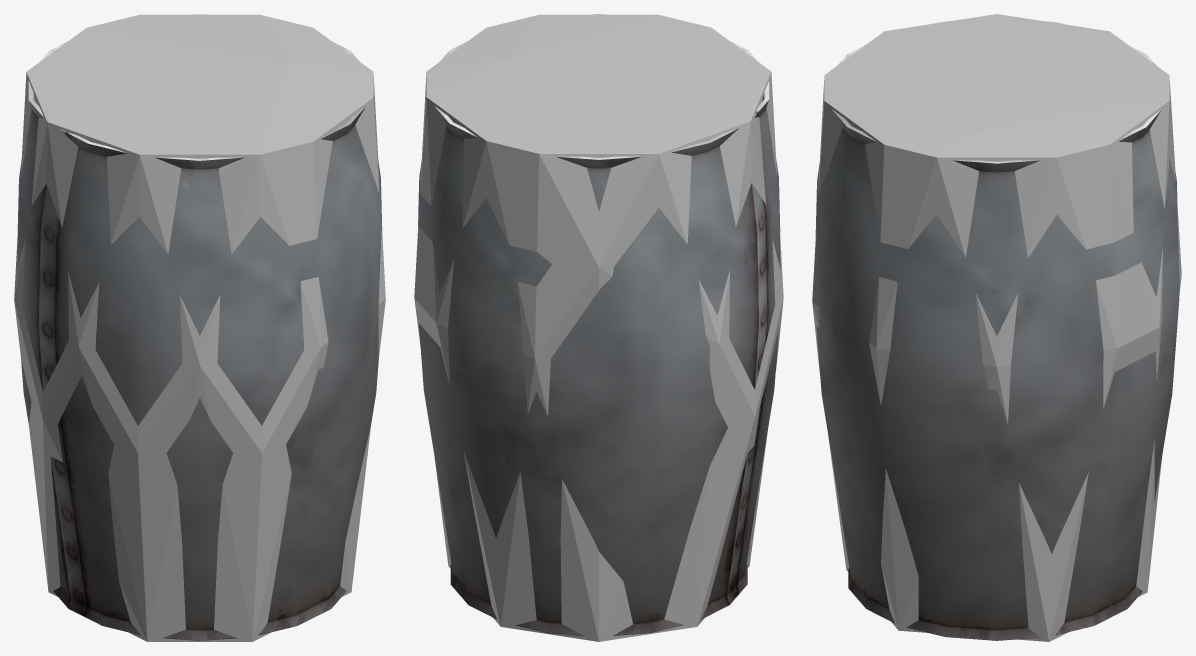
The model's file is SM_BarrelMetallic02.fbx.
3 renders of one model, left to right at view 1: azimuth 30°, elevation 25°; view 2: azimuth 150°, elevation 25°; view 3: azimuth 270°, elevation 25°, orthographic.
Visible parts, largest first — view 1: SM_BarrelMetallic02_ConvexHulls, SM_BarrelMetallic02; view 2: SM_BarrelMetallic02, SM_BarrelMetallic02_ConvexHulls; view 3: SM_BarrelMetallic02, SM_BarrelMetallic02_ConvexHulls.
Part boxes in pixels (bbox=[...]): SM_BarrelMetallic02_ConvexHulls: bbox=[14, 14, 385, 641]; SM_BarrelMetallic02: bbox=[17, 14, 382, 640]; SM_BarrelMetallic02: bbox=[418, 14, 780, 635]; SM_BarrelMetallic02_ConvexHulls: bbox=[414, 14, 783, 641]; SM_BarrelMetallic02: bbox=[815, 21, 1179, 640]; SM_BarrelMetallic02_ConvexHulls: bbox=[812, 14, 1181, 641].
Bounding box in the file's own units: 74.84 × 74.19 × 110.
Materials: 2 (1 with a texture image).
